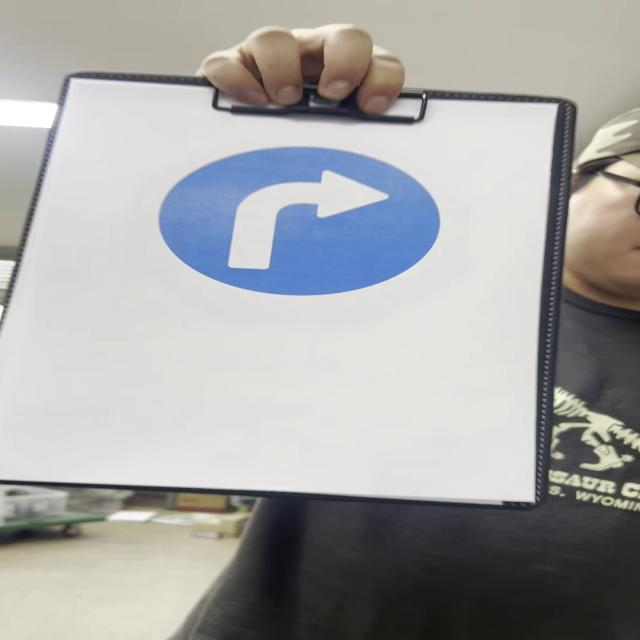right: (167, 147, 442, 296)
